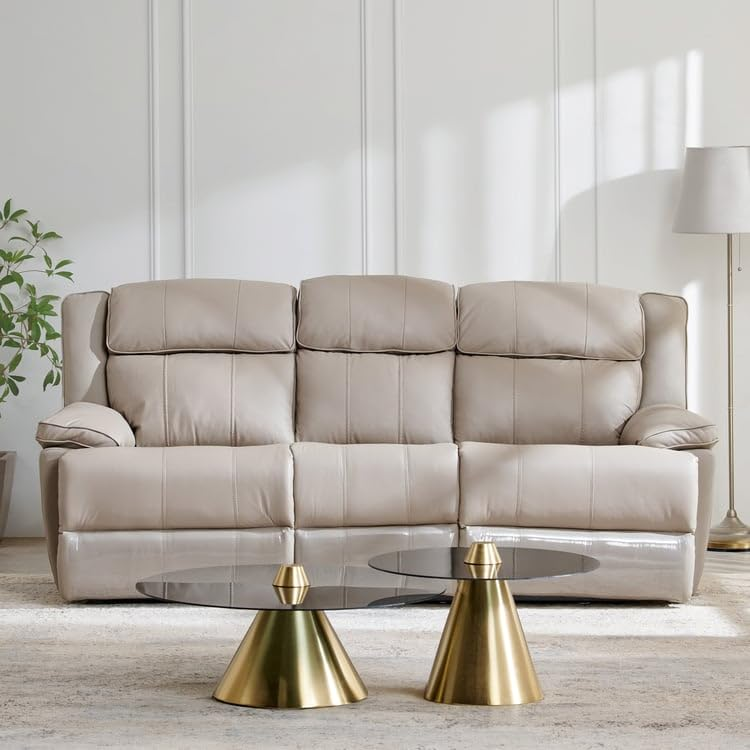3seatersofa: (37, 276, 716, 601)
backrest: (106, 275, 645, 445)
base: (51, 525, 704, 601)
leftarmrest: (621, 293, 717, 449)
leg: (40, 447, 67, 586), (688, 449, 714, 593)
rightarmrest: (37, 294, 132, 447)
seat: (61, 443, 696, 530)
